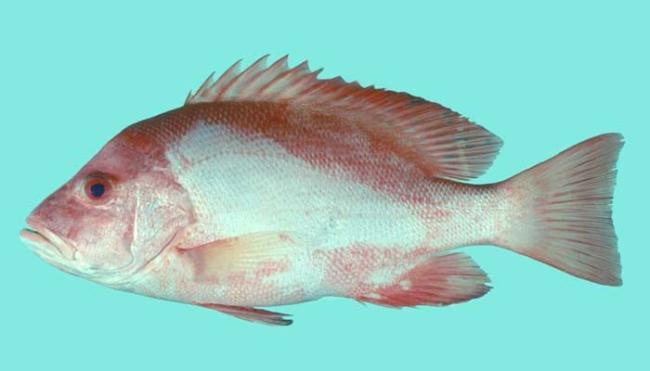fish: (19, 53, 626, 326)
